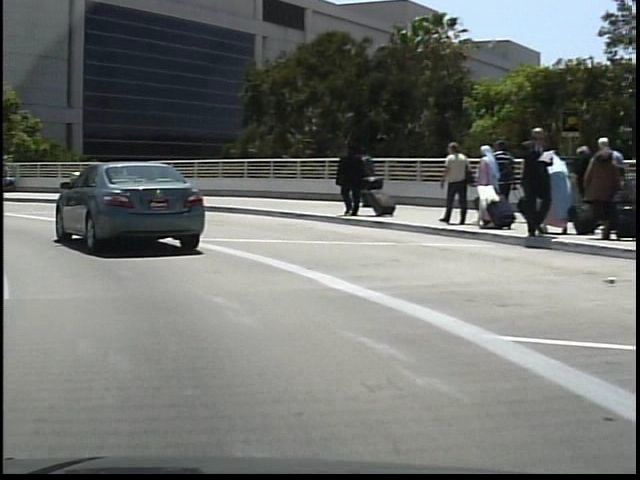person: (513, 122, 554, 239), (432, 138, 471, 226), (329, 141, 365, 218), (355, 148, 376, 209)
